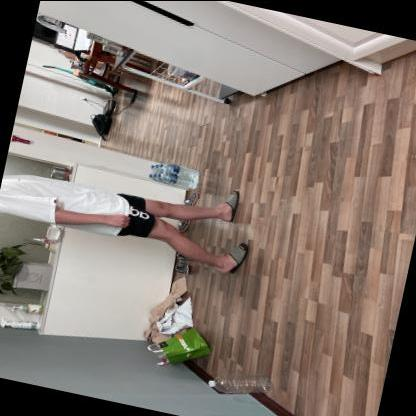no_safety-shoe: (213, 236, 258, 289), (206, 183, 250, 230)
